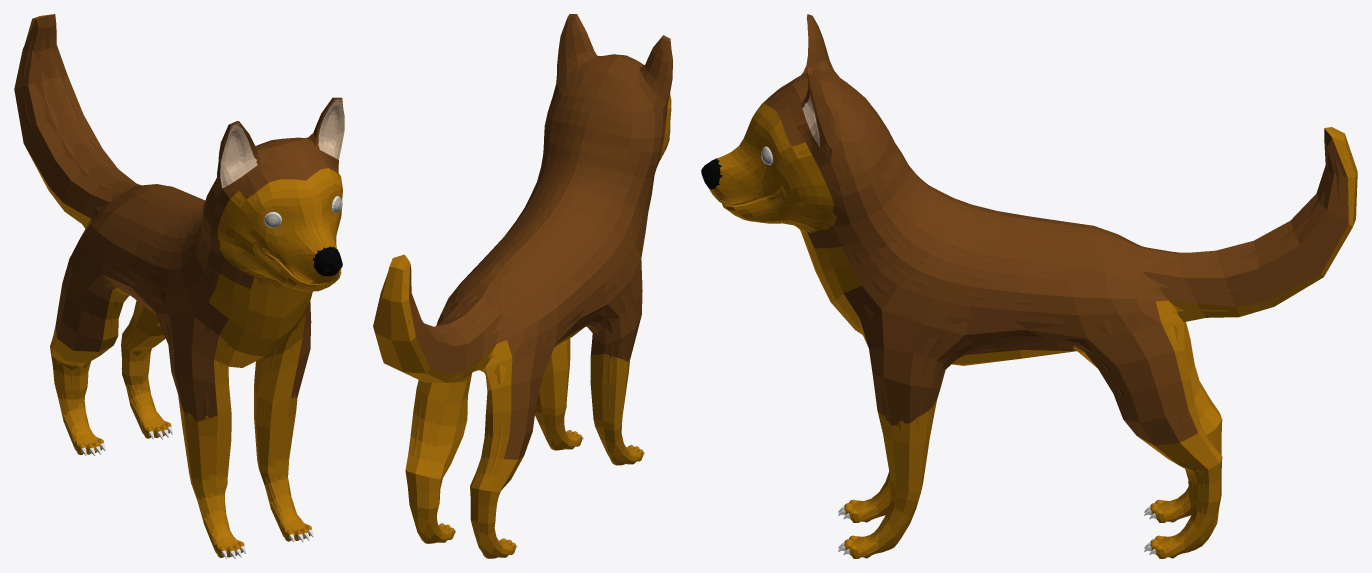
File: husky.fbx
3 views of the same model, side by side, from view 1: azimuth 30°, elevation 25°; view 2: azimuth 150°, elevation 25°; view 3: azimuth 270°, elevation 25° (orthographic). The views are drawn at different scales.
Parts seen in each view (by area): view 1: Husky, Husky_highpoly; view 2: Husky, Husky_highpoly; view 3: Husky, Husky_highpoly.
Part boxes in pixels (<box>): Husky: <box>14,14,344,558</box>; Husky_highpoly: <box>21,28,342,557</box>; Husky: <box>373,14,672,558</box>; Husky_highpoly: <box>377,26,671,558</box>; Husky: <box>701,14,1357,558</box>; Husky_highpoly: <box>703,28,1355,557</box>.
Bounding box in the file's own units: 95.65 × 322 × 387.
